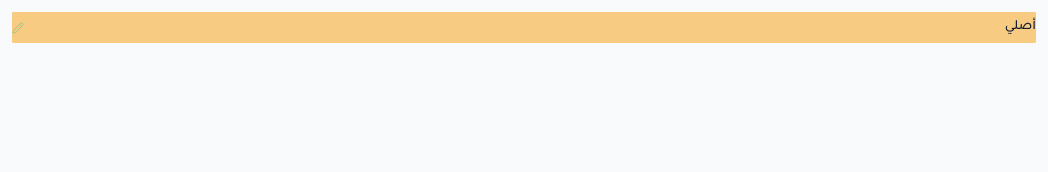
Test: InlineMemoEditor › cancels edits with Escape
Click the text "أصلي" at [1020, 28], box [1005,18,1036,37]
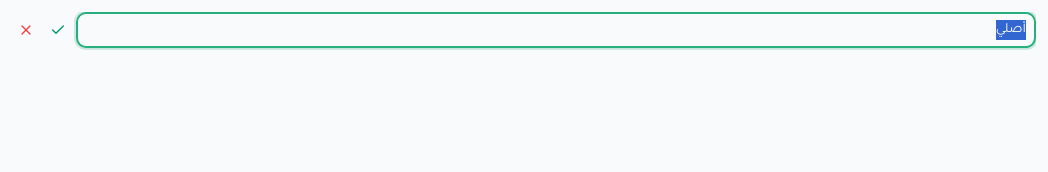
Replace the text in the field with placeholder "اكتب تفاصيل الطلب..." with "ملغى" at [556, 30], box [76,12,1036,48]
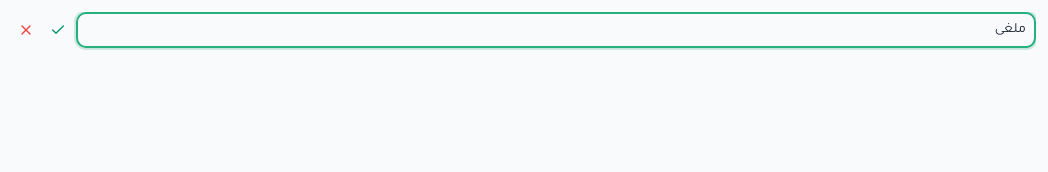
Press Escape in the field with placeholder "اكتب تفاصيل الطلب...", box [76,12,1036,48]
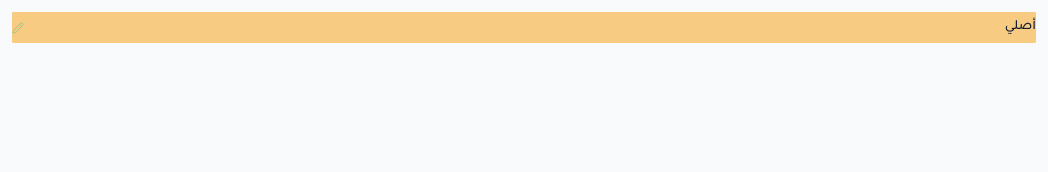
Now the text "أصلي" is shown, box [1005,18,1036,37]
